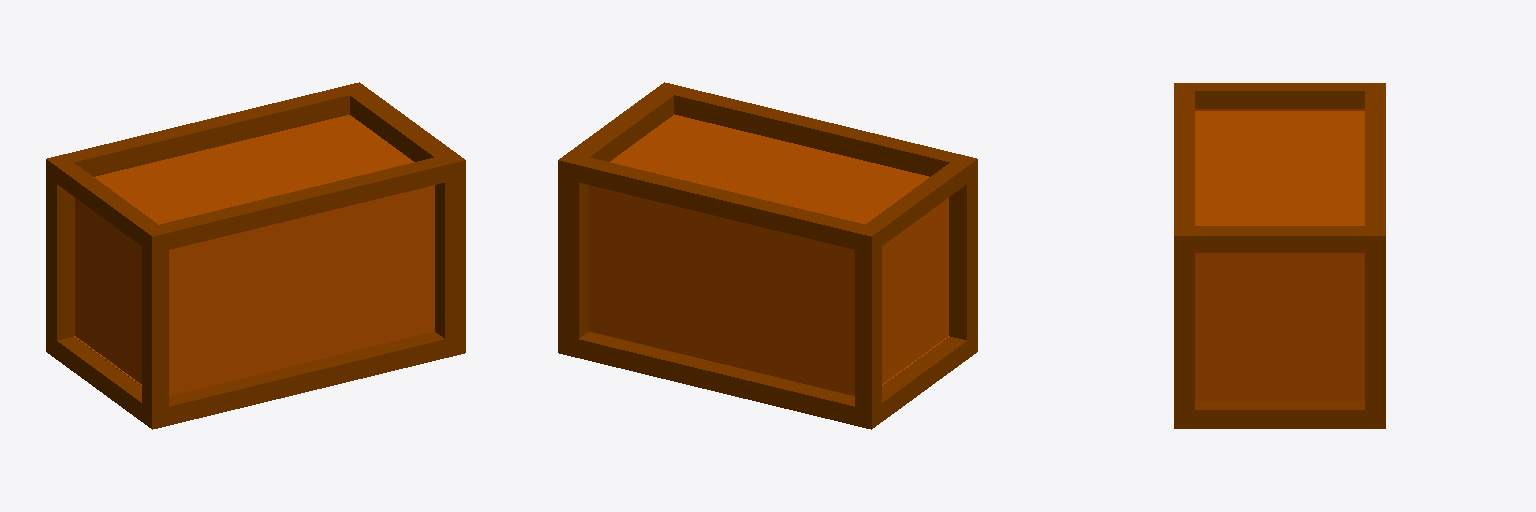
The model's file is Container.obj.
3 renders of one model, left to right at view 1: azimuth 30°, elevation 25°; view 2: azimuth 150°, elevation 25°; view 3: azimuth 270°, elevation 25°, orthographic.
Parts seen in each view (by area): view 1: Container; view 2: Container; view 3: Container.
Part boxes in pixels (x1,y1,x2,y2): Container: (46,82,465,429); Container: (558,82,977,429); Container: (1174,83,1385,428).
Bounding box in the file's own units: 3.4 × 2 × 2.